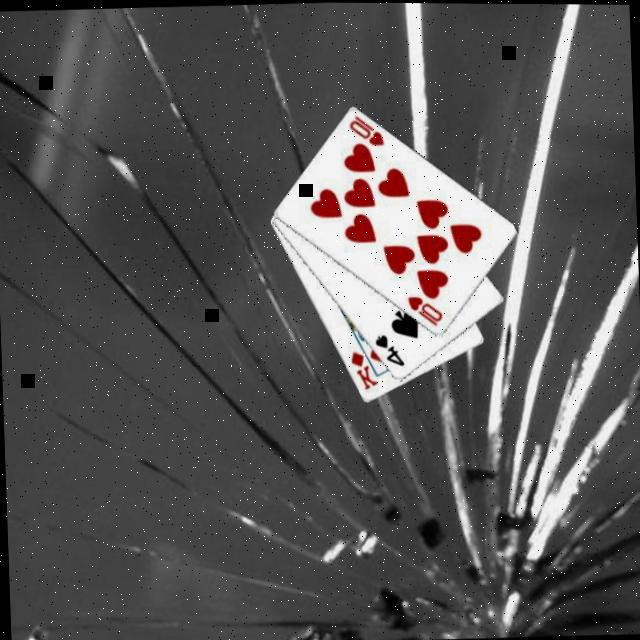10H: (406, 291, 447, 328), (348, 110, 388, 147)
4S: (373, 329, 408, 368)
KD: (348, 346, 382, 391)
